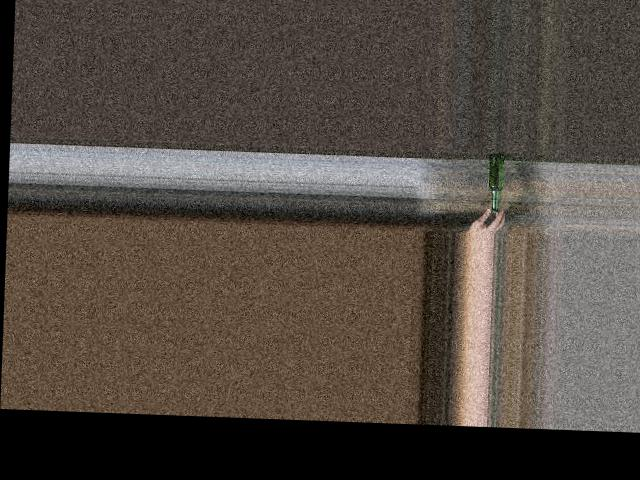beer: (487, 153, 504, 212)
